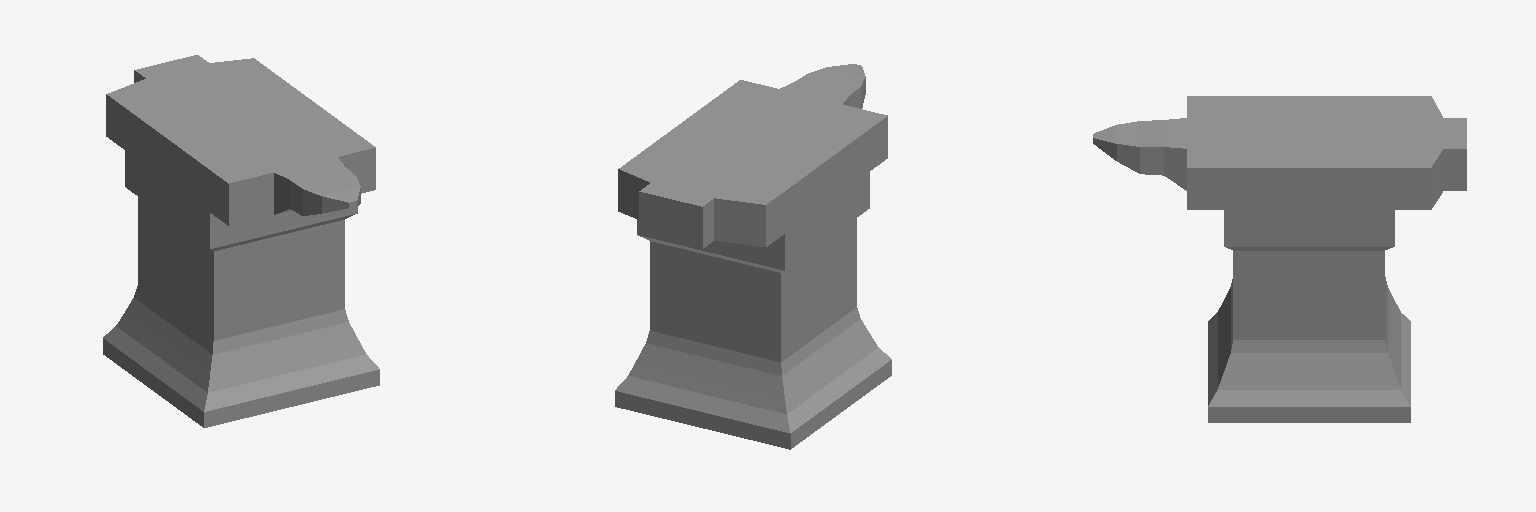
The model's file is Anvil.obj.
3 views of the same model, side by side, from view 1: azimuth 30°, elevation 25°; view 2: azimuth 150°, elevation 25°; view 3: azimuth 270°, elevation 25° (orthographic).
Visible parts, largest first — view 1: Cube; view 2: Cube; view 3: Cube.
Boxes of the visible parts, <box> form: Cube: <box>103,55,379,427</box>; Cube: <box>615,64,891,449</box>; Cube: <box>1093,96,1466,422</box>.
Bounding box in the file's own units: 2.68 × 3.61 × 4.93.